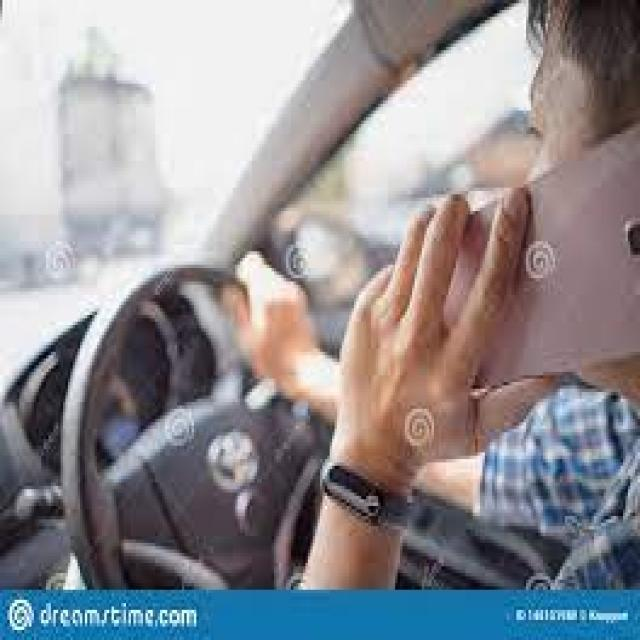Cellphone_calling: (337, 120, 640, 472)
